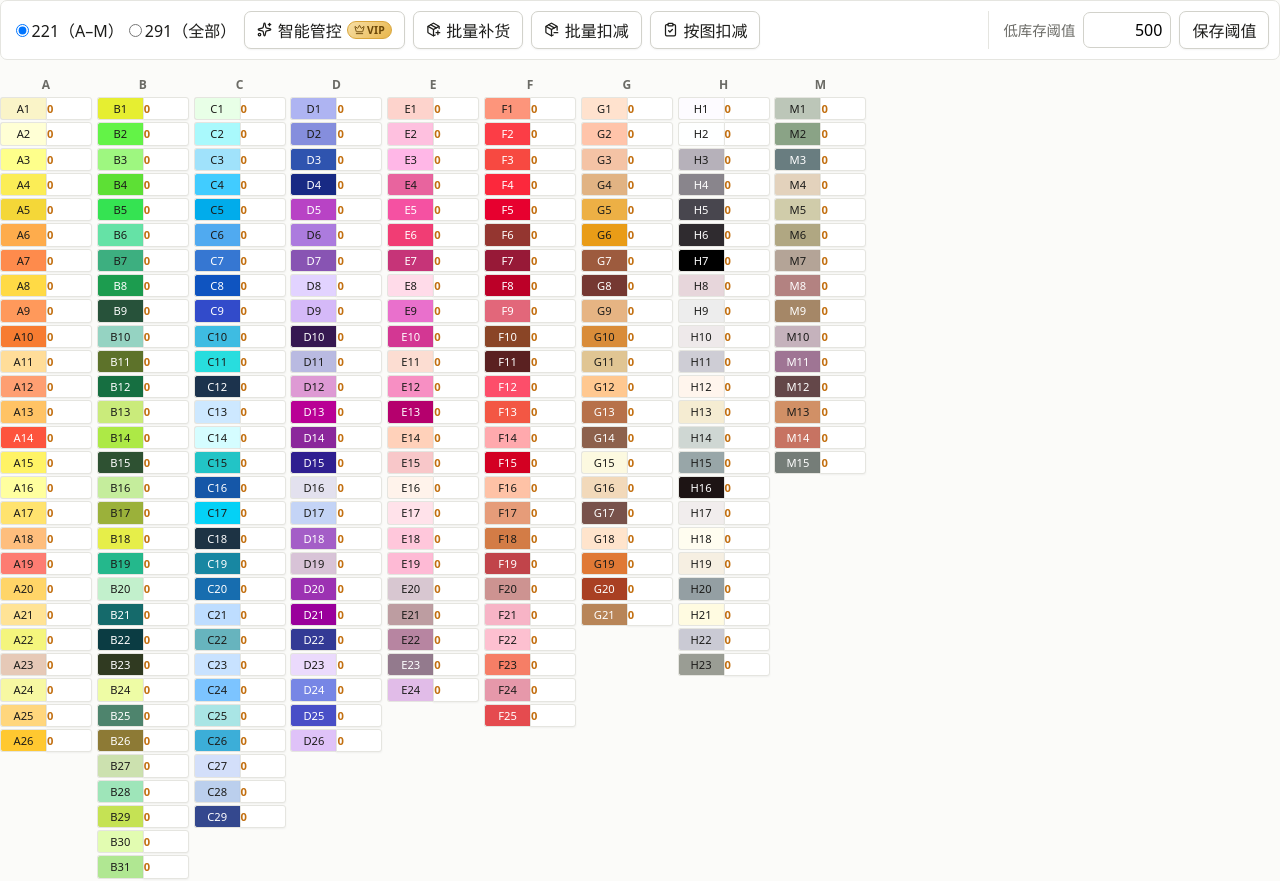
Scenario: 智能管控 (VIP) › a VIP account opens the dialog
Click the button "智能管控 VIP". click: [324, 30]
box: [244, 11, 405, 49]
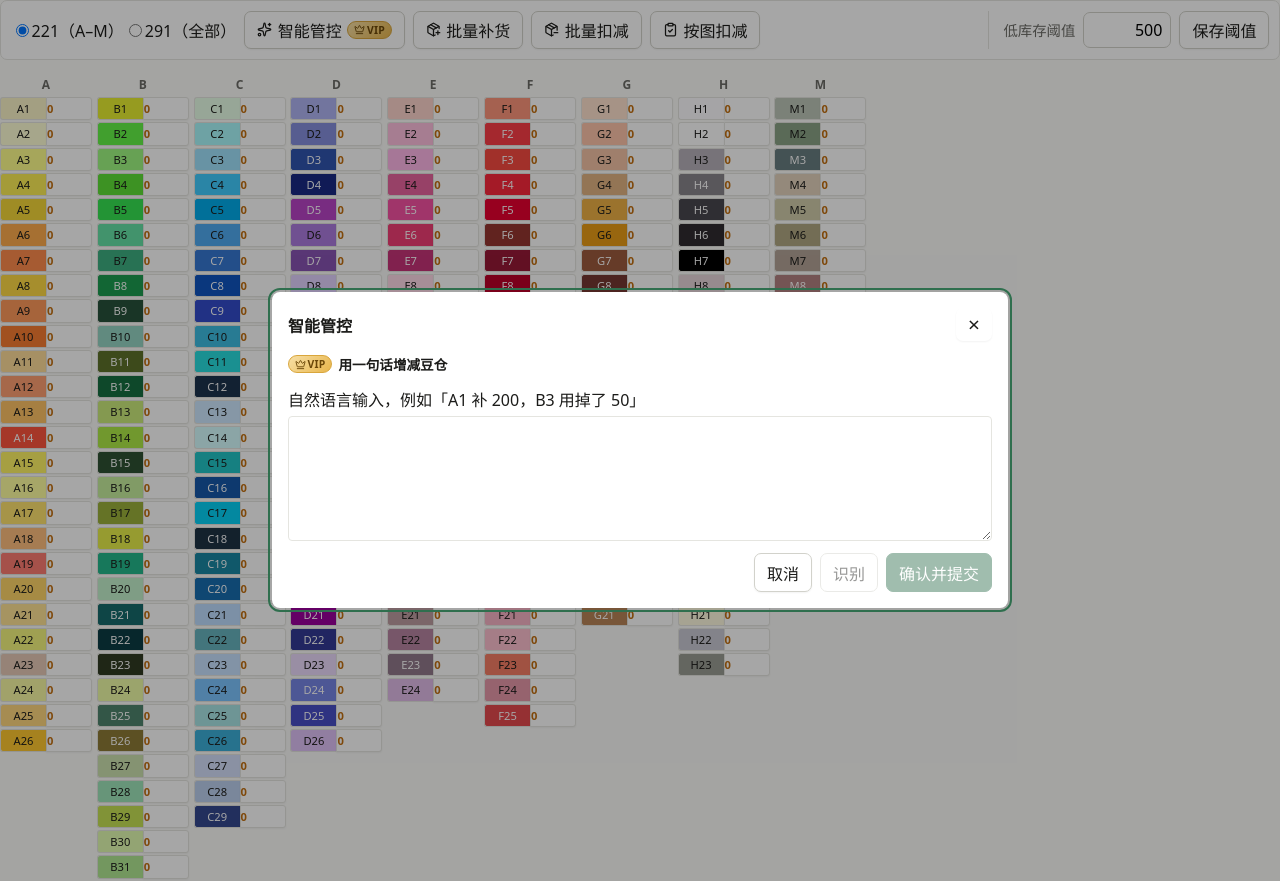
Expected: the text box labelled "自然语言输入" is shown, [288, 416, 992, 541]
